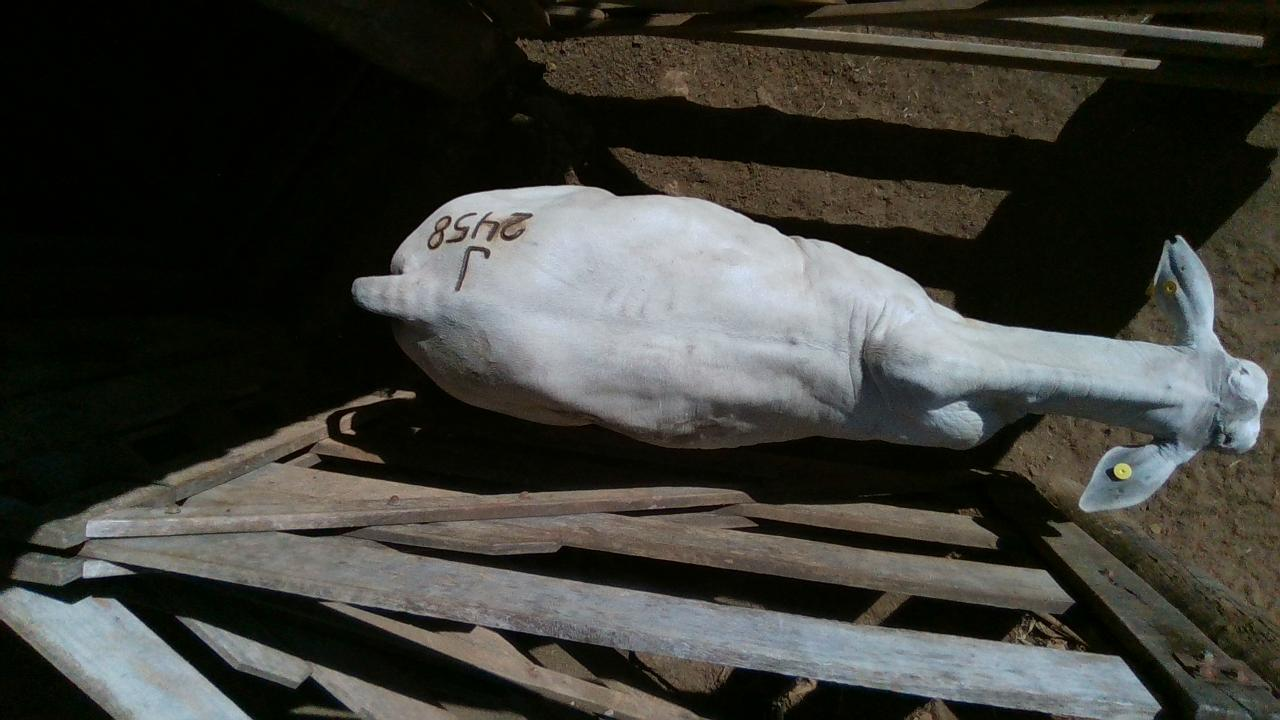cattle: (349, 181, 1269, 513)
